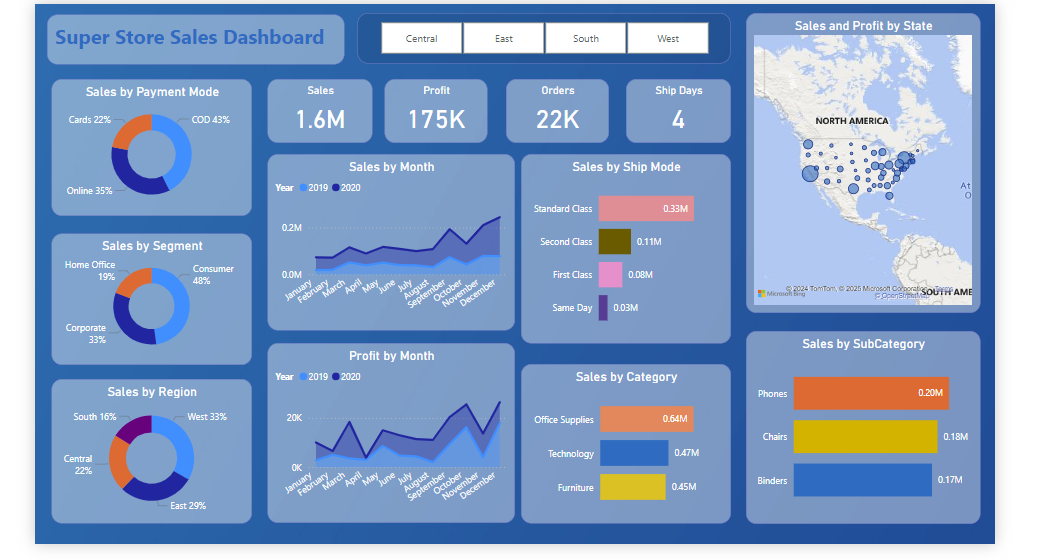

What the dashboard file says about the page in this screenshot:
{"tool":"powerbi","page":{"name":"Page 1","canvas":[1280,720],"ordinal":0},"visuals":[{"type":"clusteredBarChart","title":"Sales by Category","fields":{"Category":["SuperStore_Sales_Dataset.Category"],"Y":["Sum(SuperStore_Sales_Dataset.Sales)"]},"box":[647.5,480,280,212.5],"z":0},{"type":"clusteredBarChart","title":"Sales by SubCategory","fields":{"Category":["SuperStore_Sales_Dataset.Sub-Category"],"Y":["Sum(SuperStore_Sales_Dataset.Sales)"]},"box":[947.5,435,312.5,257.5],"z":1000},{"type":"clusteredBarChart","title":"Sales by Ship Mode","fields":{"Category":["SuperStore_Sales_Dataset.Ship Mode"],"Y":["Sum(SuperStore_Sales_Dataset.Sales)"]},"box":[647.5,200,280,252.5],"z":2000},{"type":"stackedAreaChart","title":"Sales by Month","fields":{"Y":["Sum(SuperStore_Sales_Dataset.Sales)"],"Category":["SuperStore_Sales_Dataset.Order Date.Variation.Date Hierarchy.Month","SuperStore_Sales_Dataset.Order Date.Variation.Date Hierarchy.Day"],"Series":["SuperStore_Sales_Dataset.Order Date.Variation.Date Hierarchy.Year"]},"box":[310,200,330,235],"z":3000},{"type":"stackedAreaChart","title":"Profit by Month","fields":{"Category":["SuperStore_Sales_Dataset.Order Date.Variation.Date Hierarchy.Month","SuperStore_Sales_Dataset.Order Date.Variation.Date Hierarchy.Day"],"Series":["SuperStore_Sales_Dataset.Order Date.Variation.Date Hierarchy.Year"],"Y":["Sum(SuperStore_Sales_Dataset.Profit)"]},"box":[310,452.5,330,240],"z":4000},{"type":"map","title":"Sales and Profit by State","fields":{"Category":["SuperStore_Sales_Dataset.State"],"Size":["Sum(SuperStore_Sales_Dataset.Sales)"]},"box":[947.5,12.5,312.5,400],"z":5000},{"type":"donutChart","title":"Sales by Segment","fields":{"Category":["SuperStore_Sales_Dataset.Segment"],"Y":["Sum(SuperStore_Sales_Dataset.Sales)"]},"box":[22.5,305,267.5,175],"z":6000},{"type":"donutChart","title":"Sales by Payment Mode","fields":{"Category":["SuperStore_Sales_Dataset.Payment Mode"],"Y":["Sum(SuperStore_Sales_Dataset.Sales)"]},"box":[22.5,100,267.5,182.5],"z":7000},{"type":"slicer","fields":{"Values":["SuperStore_Sales_Dataset.Region"]},"box":[430,12.5,497.5,67.5],"z":8000},{"type":"textbox","box":[15,13.3,396.7,66.7],"z":9000},{"type":"card","title":"Sales","fields":{"Values":["Sum(SuperStore_Sales_Dataset.Sales)"]},"box":[310,100,140,85],"z":10000},{"type":"card","title":"Profit","fields":{"Values":["Sum(SuperStore_Sales_Dataset.Profit)"]},"box":[465,100,137.5,85],"z":11000},{"type":"card","title":"Orders","fields":{"Values":["Sum(SuperStore_Sales_Dataset.Quantity)"]},"box":[627.5,100,137.5,85],"z":12000},{"type":"card","title":"Ship Days","fields":{"Values":["Avg(SuperStore_Sales_Dataset.AvgDelivery)"]},"box":[787.5,100,140,85],"z":13000},{"type":"donutChart","title":"Sales by Region","fields":{"Category":["SuperStore_Sales_Dataset.Region"],"Y":["Sum(SuperStore_Sales_Dataset.Sales)"]},"box":[22.5,500,267.5,192.5],"z":14000}]}

Visuals, with their boxes on the page's 1280x720 design canvas (x1, y1, x2, y2). These are canvas units, not pixel positions in the 1048x560 screenshot, which may show the page scaled, cropped or inside an application window:
"Sales by Category" clusteredBarChart: bbox=[648, 480, 928, 692]
"Sales by SubCategory" clusteredBarChart: bbox=[948, 435, 1260, 692]
"Sales by Ship Mode" clusteredBarChart: bbox=[648, 200, 928, 452]
"Sales by Month" stackedAreaChart: bbox=[310, 200, 640, 435]
"Profit by Month" stackedAreaChart: bbox=[310, 452, 640, 692]
"Sales and Profit by State" map: bbox=[948, 12, 1260, 412]
"Sales by Segment" donutChart: bbox=[22, 305, 290, 480]
"Sales by Payment Mode" donutChart: bbox=[22, 100, 290, 282]
slicer - SuperStore_Sales_Dataset.Region: bbox=[430, 12, 928, 80]
textbox: bbox=[15, 13, 412, 80]
"Sales" card: bbox=[310, 100, 450, 185]
"Profit" card: bbox=[465, 100, 602, 185]
"Orders" card: bbox=[628, 100, 765, 185]
"Ship Days" card: bbox=[788, 100, 928, 185]
"Sales by Region" donutChart: bbox=[22, 500, 290, 692]
